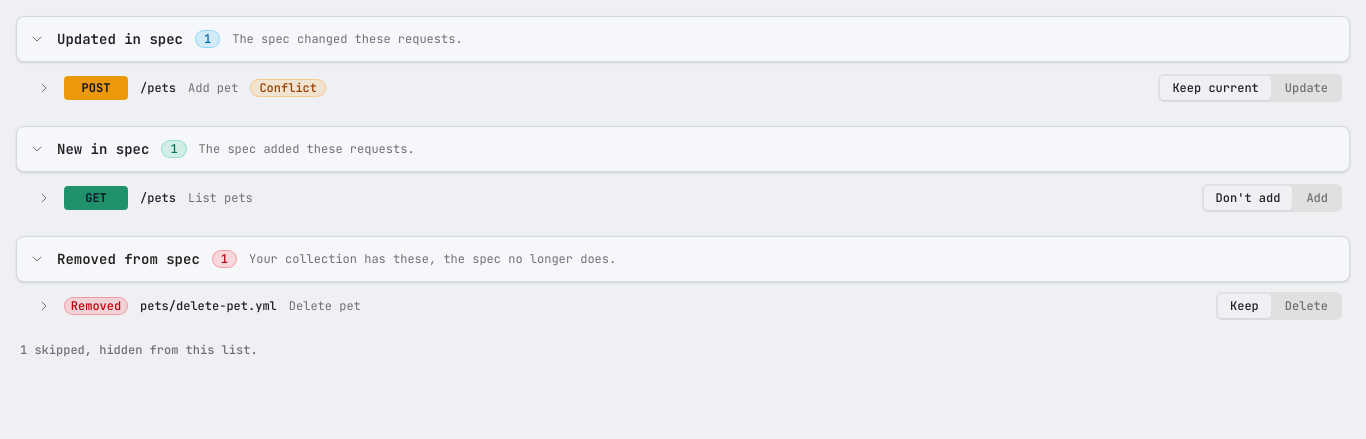
Test: OpenApiSyncList › the_skipped_line_opens_the_list
This screenshot has width=1366, height=439.
Click the button "1 skipped, hidden from this list.": (139, 350) top-left (16, 342), bottom-right (1350, 358)
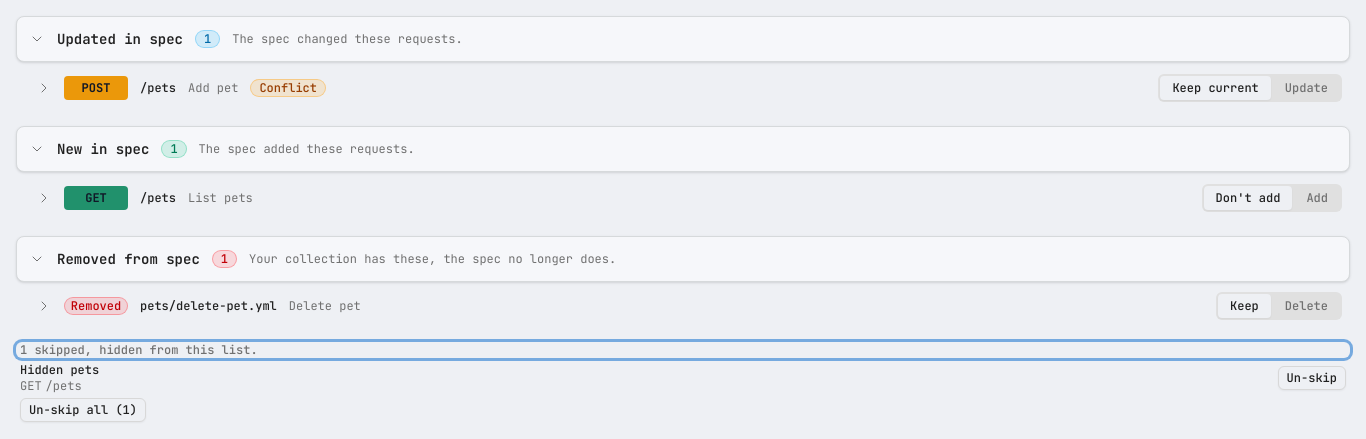
Expected: the text "Hidden pets" is shown, top-left (20, 362), bottom-right (99, 378)
Click the button "1 skipped, hidden from this list.": (139, 350) top-left (16, 342), bottom-right (1350, 358)
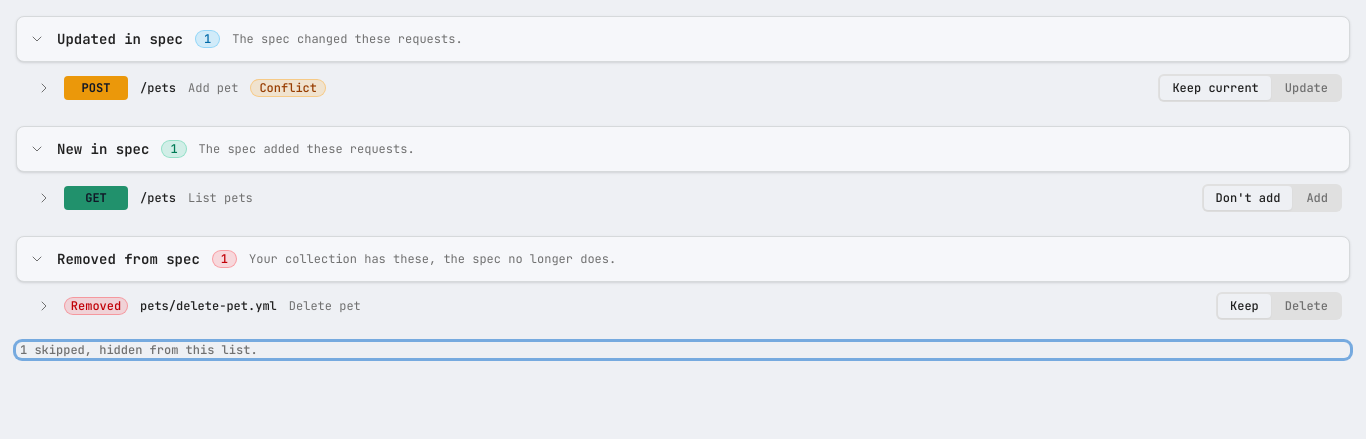
Expected: the text "Hidden pets" is gone
